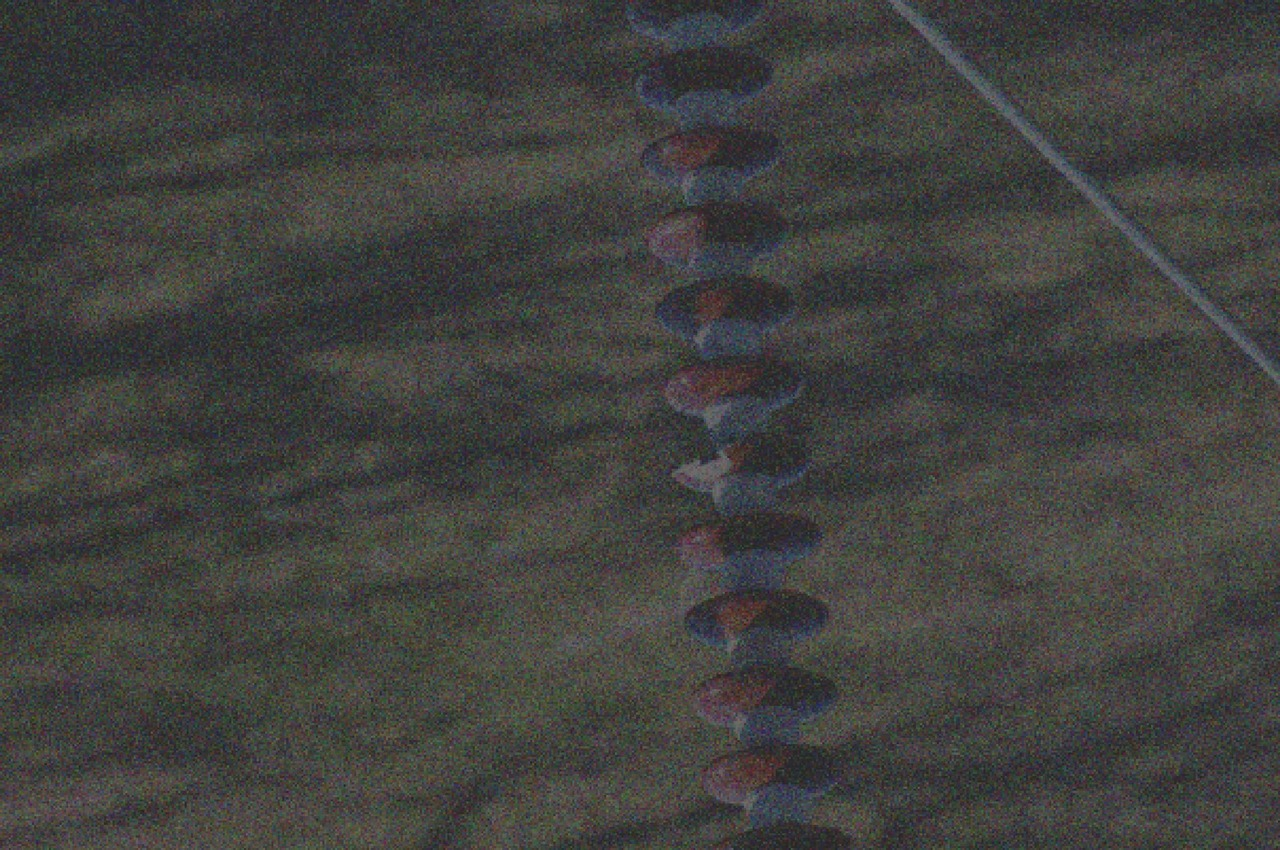Broken: (667, 426, 816, 514)
No issues: (656, 347, 808, 427), (625, 45, 777, 125), (692, 663, 843, 743), (680, 584, 831, 664), (673, 507, 824, 587), (650, 271, 801, 351), (637, 121, 788, 201), (697, 743, 849, 822), (642, 198, 793, 277), (621, 0, 771, 48)
String: (612, 3, 863, 850)
